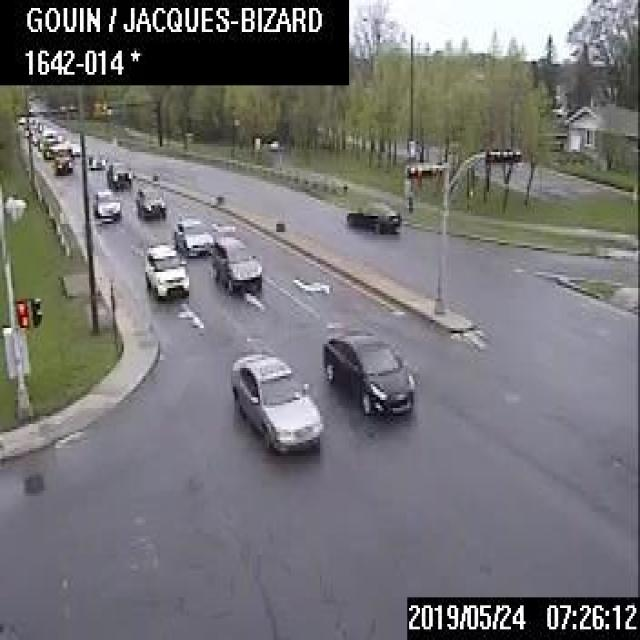vehicle: (230, 352, 322, 450), (321, 328, 414, 416), (210, 234, 260, 291), (143, 242, 188, 296), (345, 201, 400, 231), (172, 217, 212, 255), (134, 185, 164, 218), (91, 189, 119, 221), (104, 160, 130, 188), (53, 146, 71, 172), (86, 152, 105, 168), (67, 140, 80, 154)
